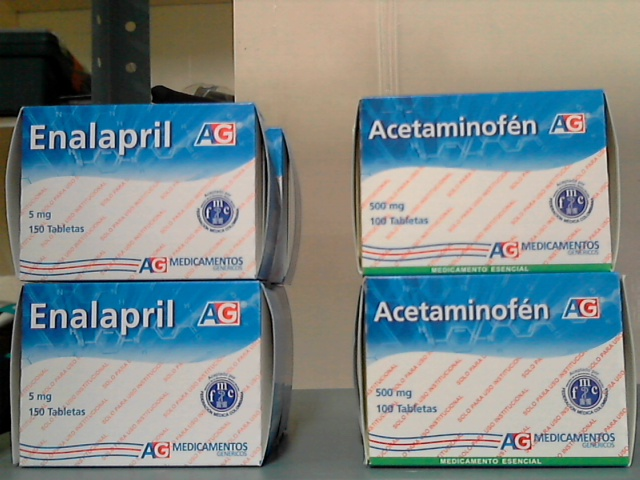AG: (366, 278, 630, 466), (362, 97, 612, 272), (23, 286, 262, 465), (23, 107, 257, 278)
